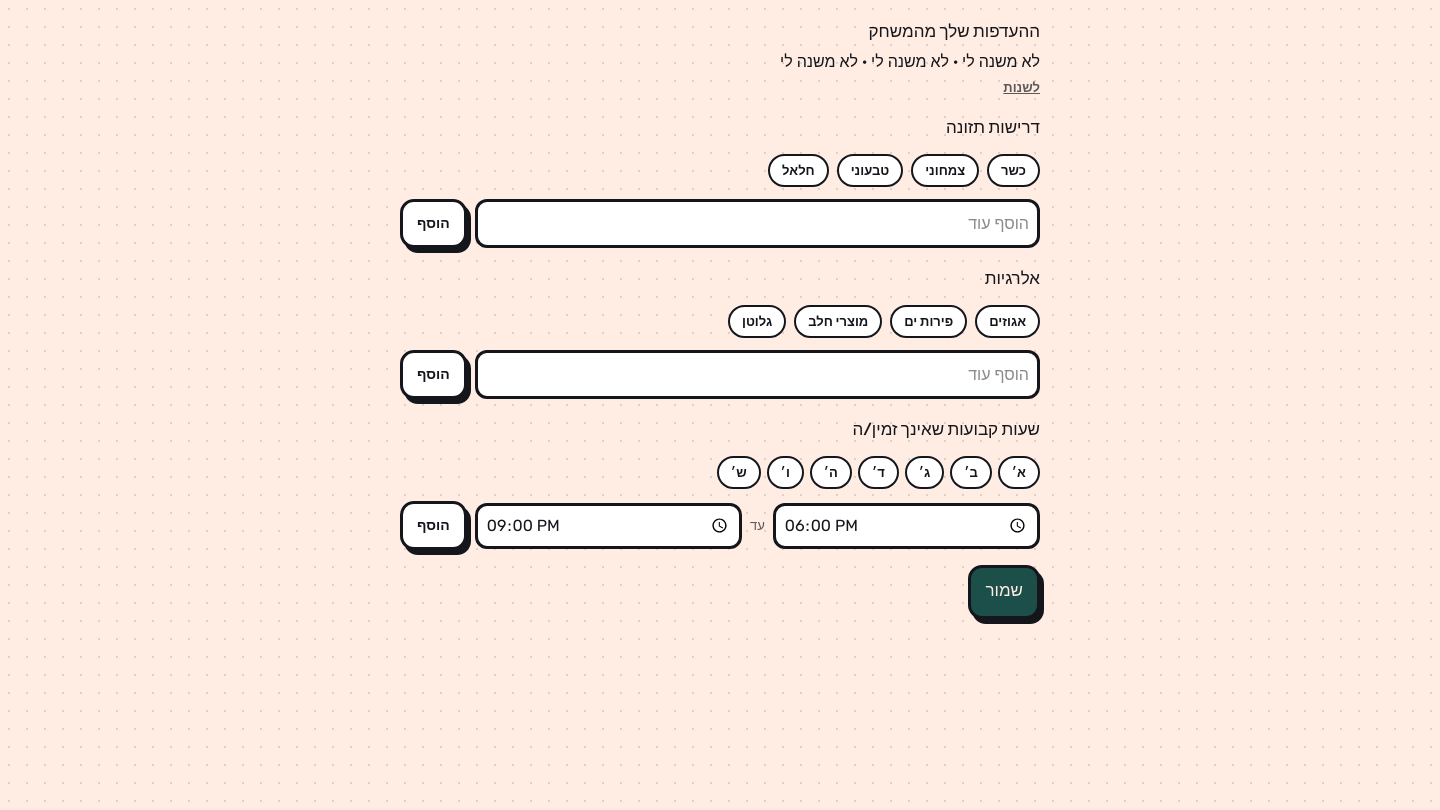
Test: adding a fixed unavailable window shows it in the list
Expected: the button "כשר" is shown, [987,154,1040,187]
Click the button "ו׳" at [785, 472], box [767,456,804,489]
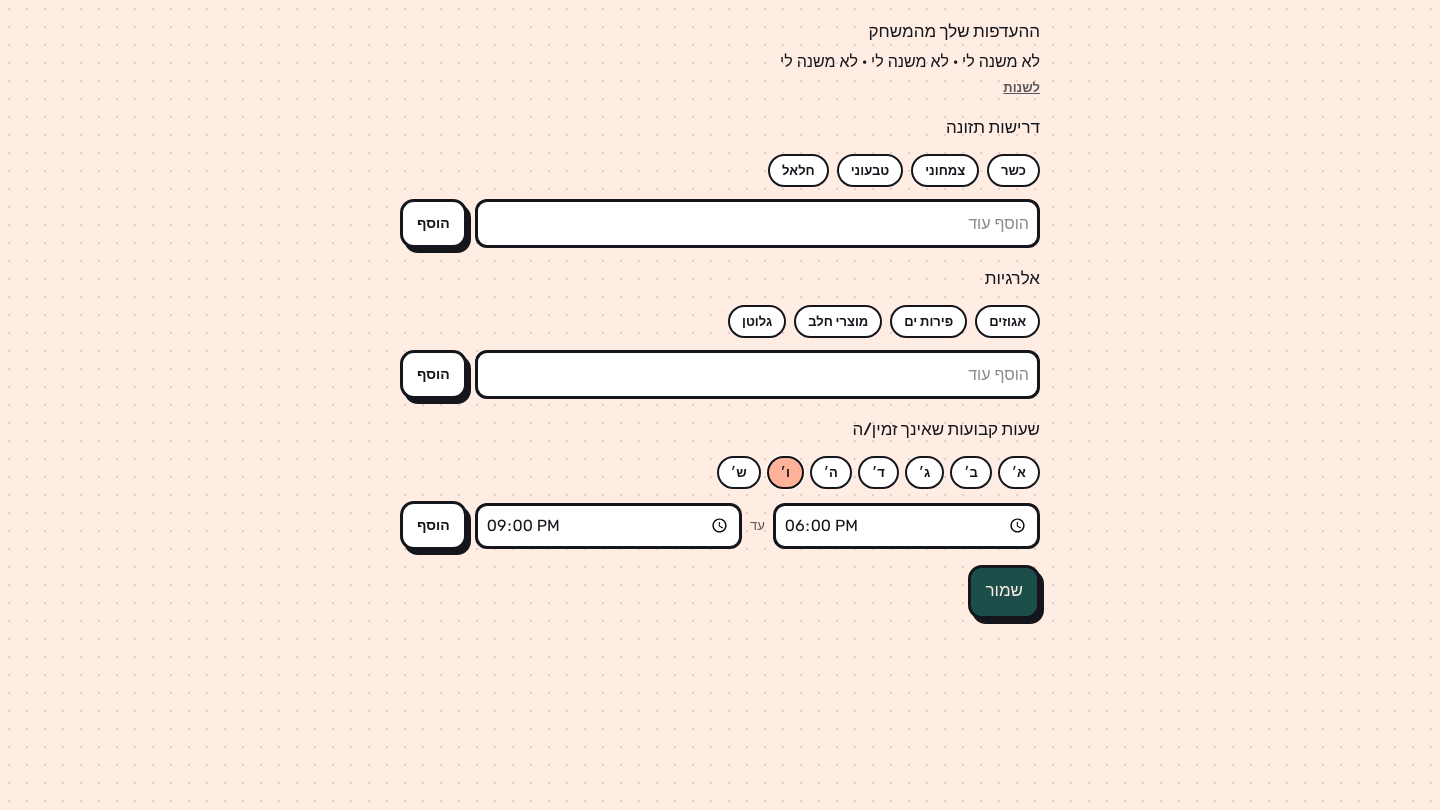
Click the 3rd button "הוסף" at [433, 526], box [400,501,467,550]
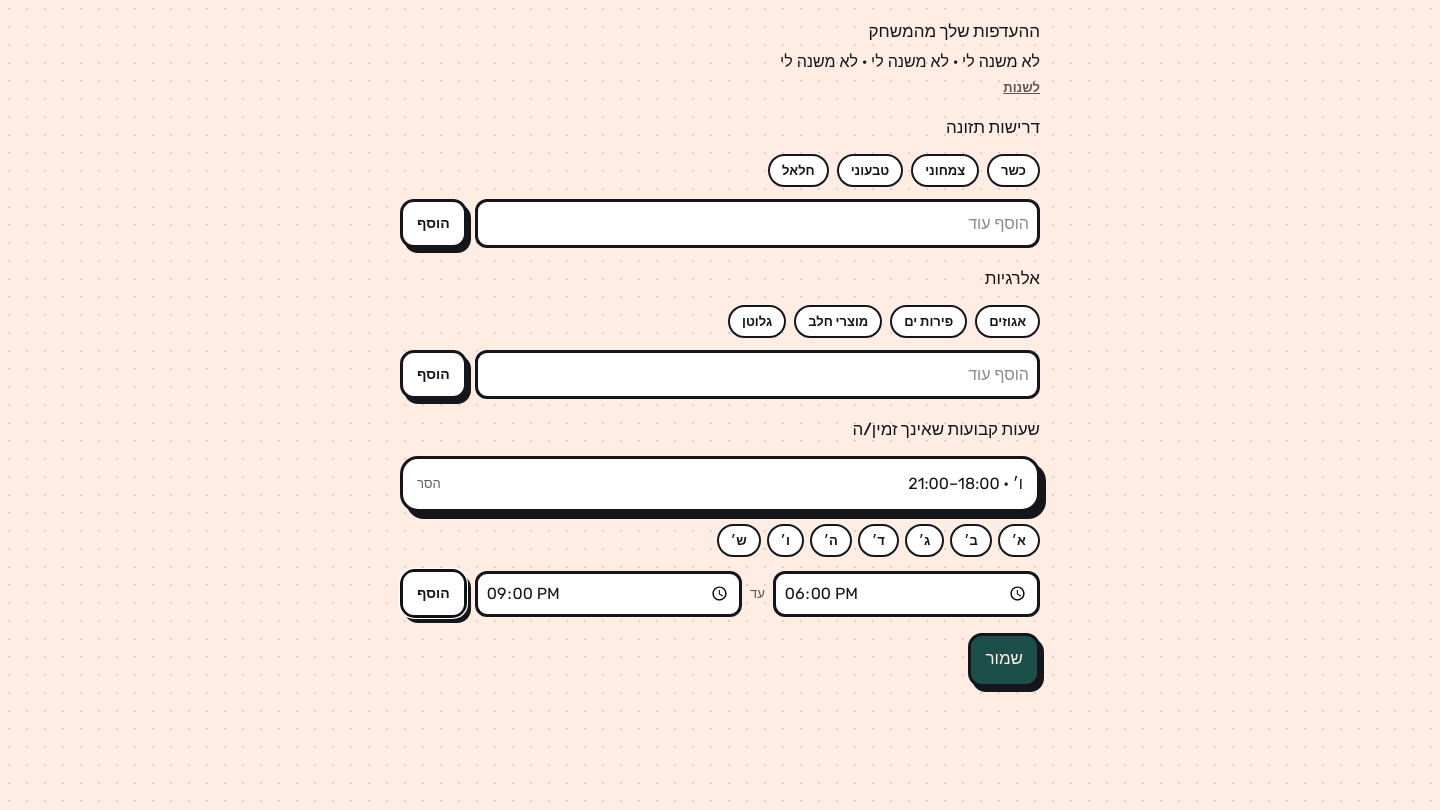
Now the text "ו׳ · 18:00–21:00" is shown, box [908,472,1023,496]
